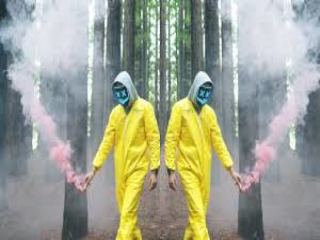smoke: (12, 74, 85, 189), (248, 74, 316, 197)
